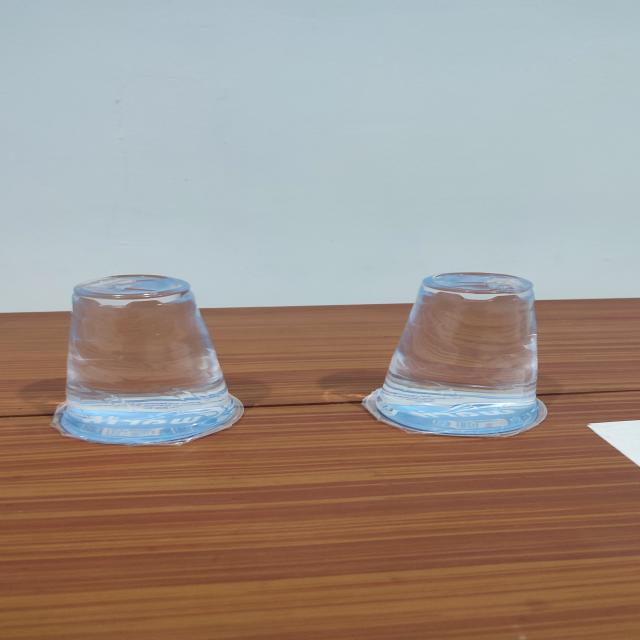air gelas: (354, 266, 578, 443), (45, 266, 252, 454)
